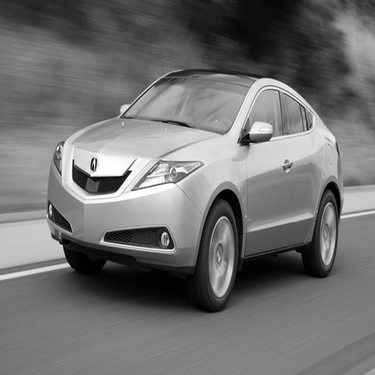car: (38, 60, 347, 312)
